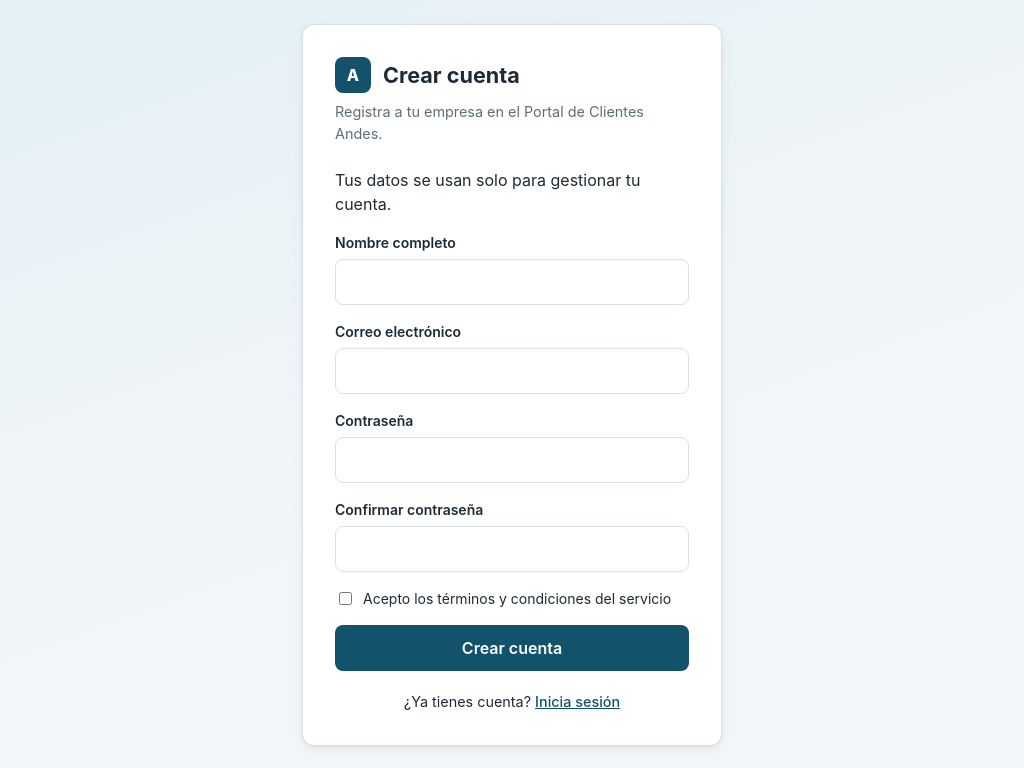
it: RegisterPage › rechaza contraseñas distintas y no registra una cuenta
Type "Ana Andes" into the field labelled "Nombre completo" at (512, 282), box x1=335 y1=259 x2=689 y2=305
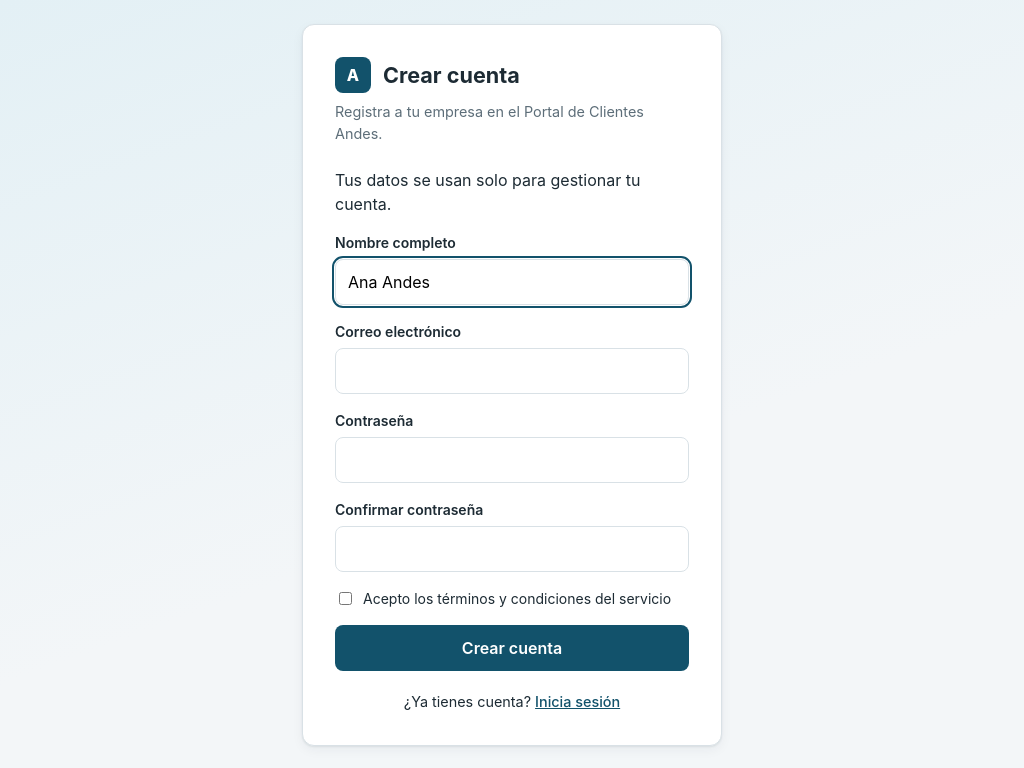
Type "ana@andes.example" into the field labelled "Correo electrónico" at (512, 371), box x1=335 y1=348 x2=689 y2=394
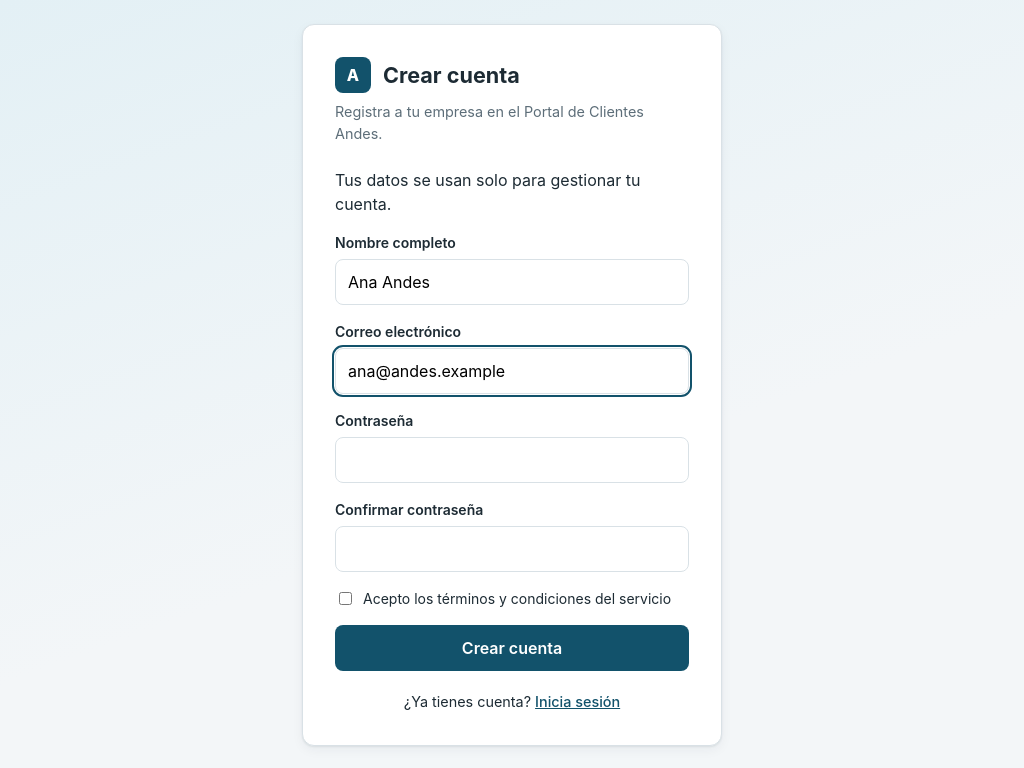
Type "Andes1234" into the password field labelled "Contraseña" at (512, 460), box x1=335 y1=437 x2=689 y2=483
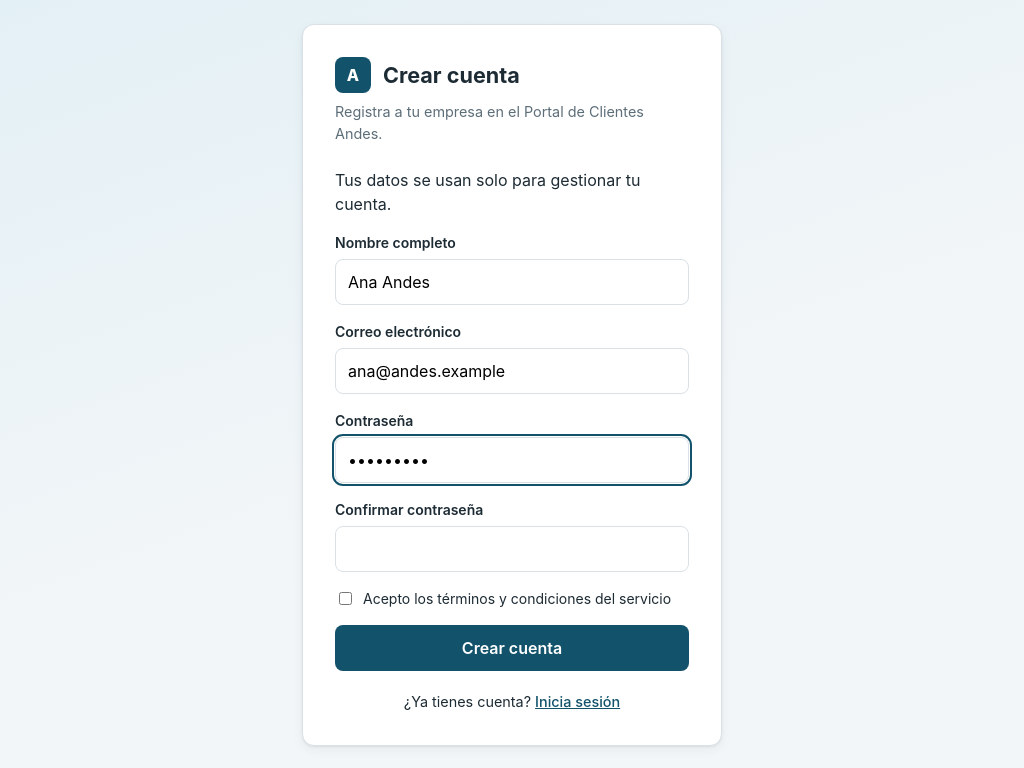
Type "Andes5678" into the password field labelled "Confirmar contraseña" at (512, 549), box x1=335 y1=526 x2=689 y2=572
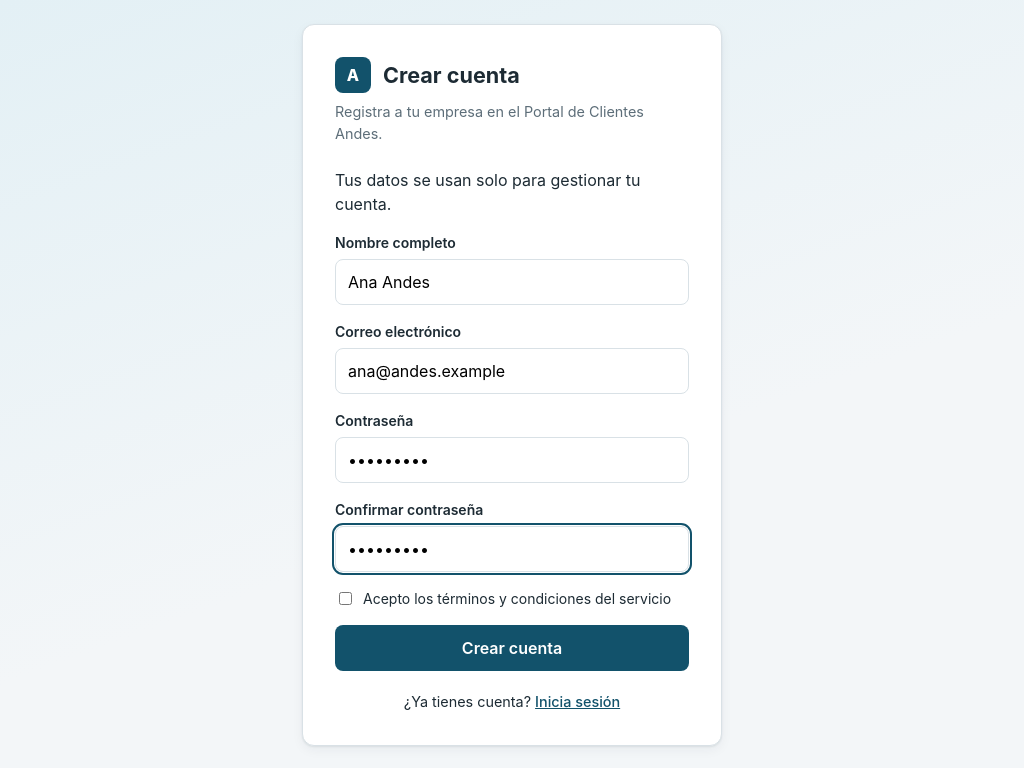
Click the checkbox labelled "Acepto los términos y condiciones del servicio" at (346, 599), box x1=339 y1=592 x2=352 y2=605
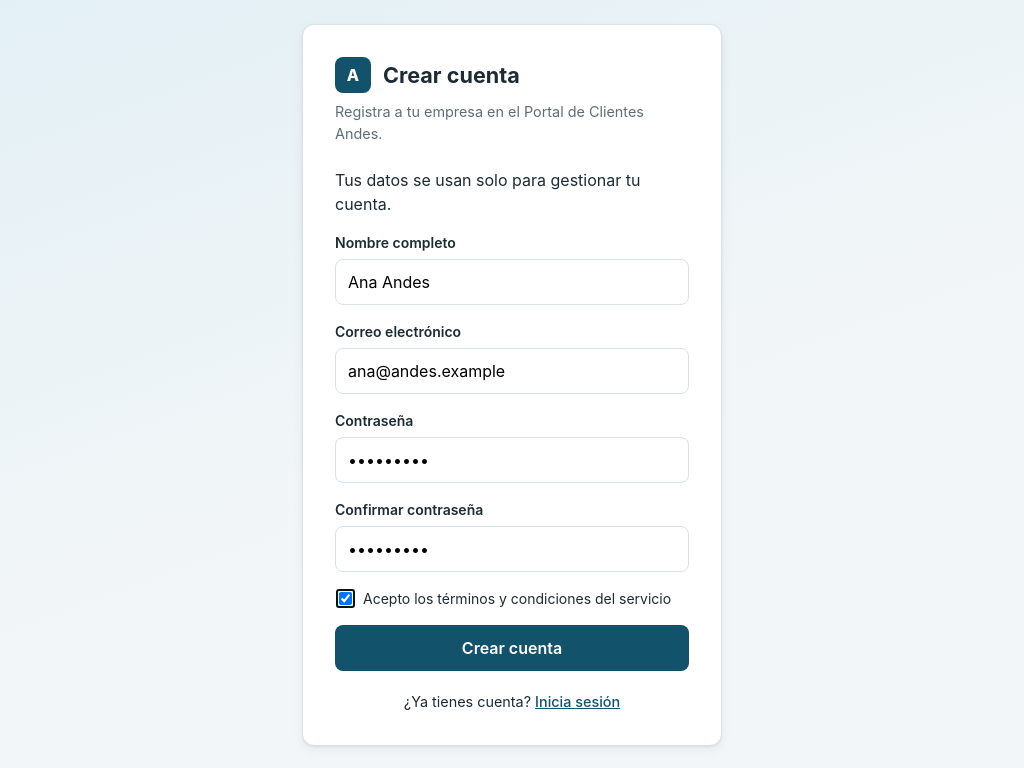
Click the button "Crear cuenta" at (512, 648), box x1=335 y1=625 x2=689 y2=671
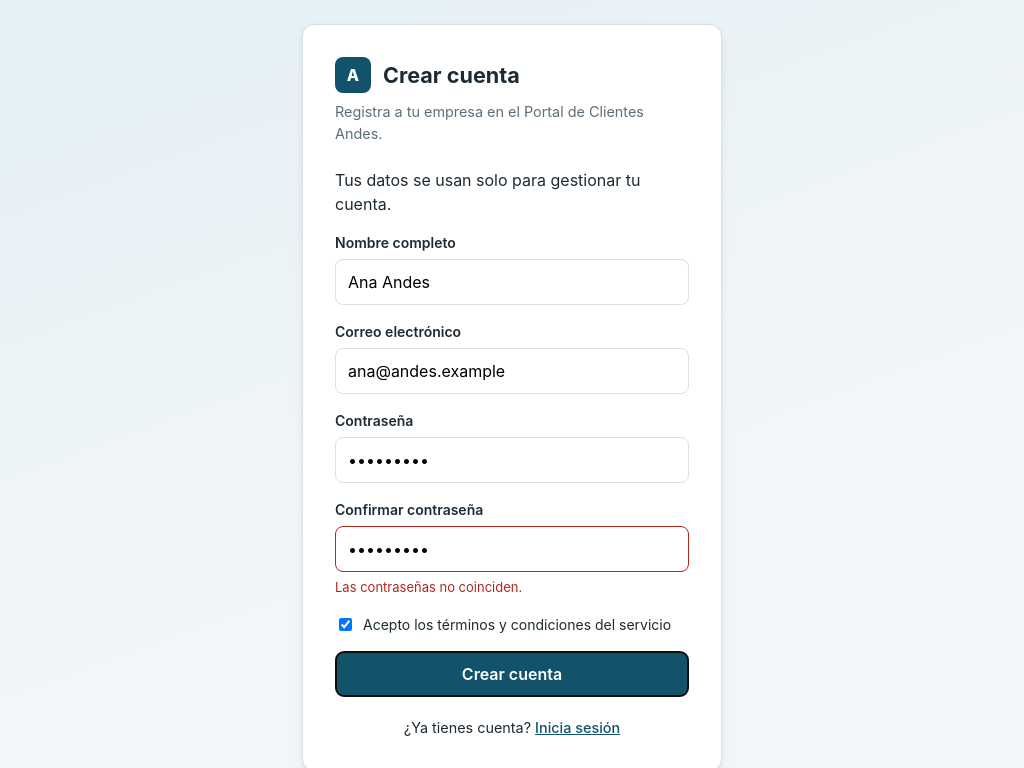
Check: the text "Las contraseñas no coinciden." is shown, box x1=335 y1=579 x2=522 y2=595
